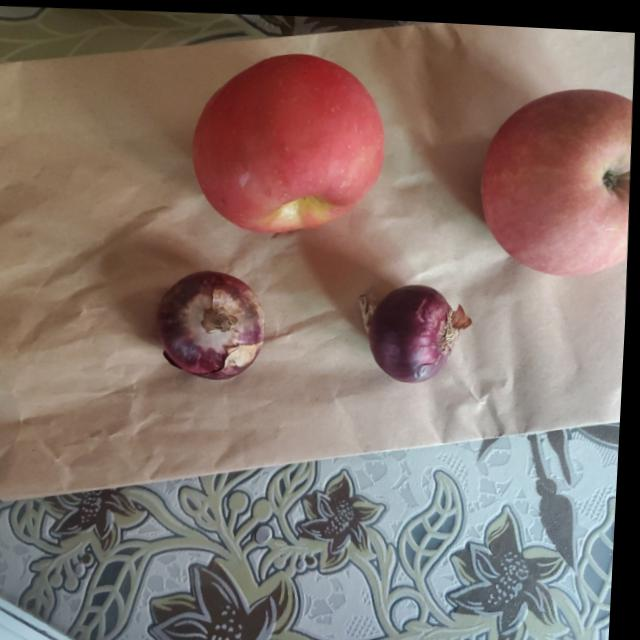apple: (187, 47, 387, 239), (477, 77, 635, 272)
onion: (162, 265, 276, 378), (360, 277, 475, 382)
